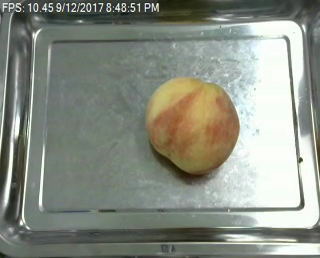Peach: (145, 77, 240, 173)
